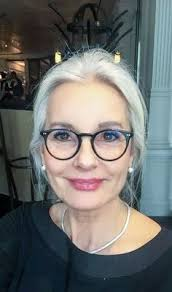person: (32, 53, 144, 214)
